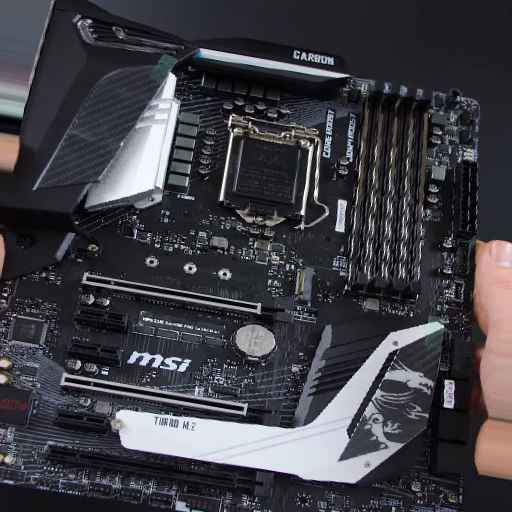CPU: (217, 125, 315, 228)
GPU: (59, 371, 283, 430), (47, 444, 275, 500), (80, 271, 296, 327)
MOTHERBOARD: (4, 13, 486, 506)
RAM: (344, 85, 434, 301)
SSD: (292, 265, 315, 303)
